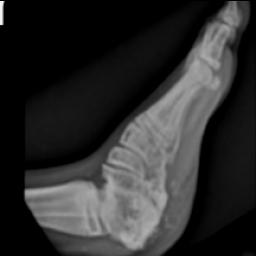cancer: (102, 169, 167, 249)
